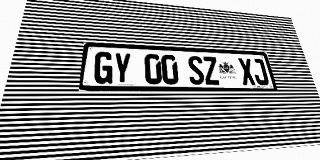0: (144, 54, 162, 84), (161, 54, 179, 84)
G: (93, 51, 113, 84)
J: (250, 58, 270, 85)
S: (187, 56, 205, 85)
X: (237, 58, 256, 85)
Y: (113, 52, 131, 84)
Z: (202, 56, 220, 85)
